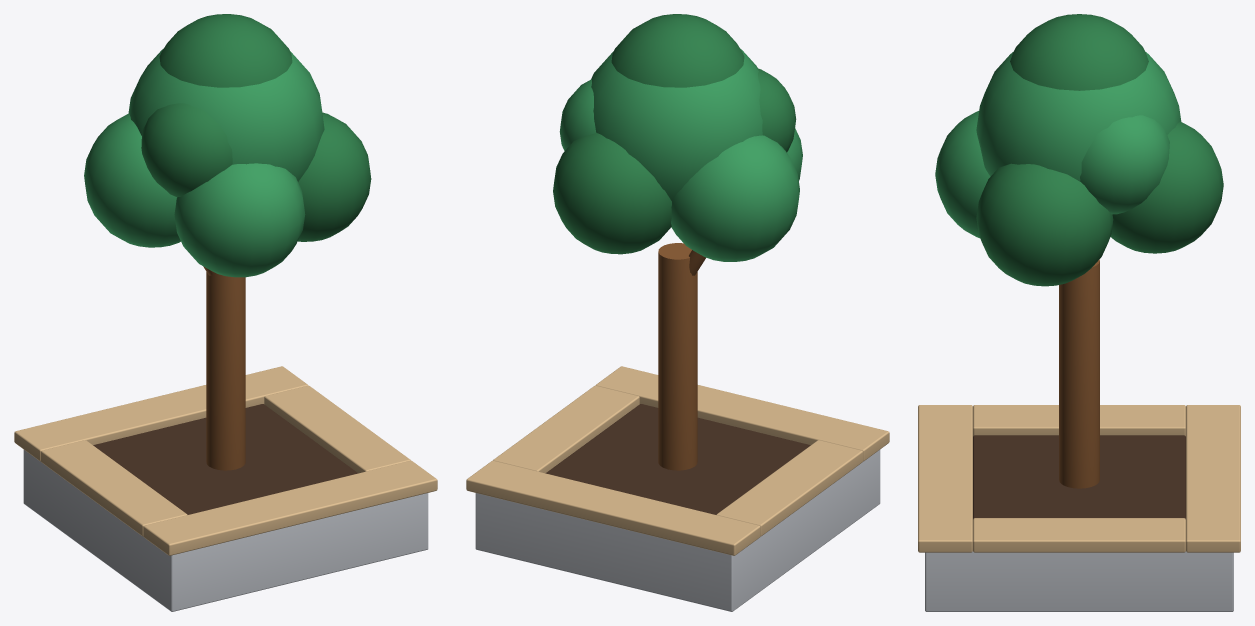
File: planter-bench.glb
3 renders of one model, left to right at view 1: azimuth 30°, elevation 25°; view 2: azimuth 150°, elevation 25°; view 3: azimuth 270°, elevation 25°, orthographic. The views are drawn at different scales.
Parts seen in each view (by area): view 1: planter-bench-solid, canopy-1-rotor-solid; view 2: planter-bench-solid, canopy-1-rotor-solid; view 3: planter-bench-solid, canopy-1-rotor-solid.
Boxes of the visible parts, x1=… form: planter-bench-solid: x1=14, y1=272, x2=437, y2=611; canopy-1-rotor-solid: x1=84, y1=14, x2=371, y2=277; planter-bench-solid: x1=466, y1=243, x2=889, y2=611; canopy-1-rotor-solid: x1=553, y1=14, x2=802, y2=275; planter-bench-solid: x1=918, y1=259, x2=1240, y2=611; canopy-1-rotor-solid: x1=935, y1=14, x2=1223, y2=286.
Bounding box in the file's own units: 0.7515 × 1.35 × 0.7515.
